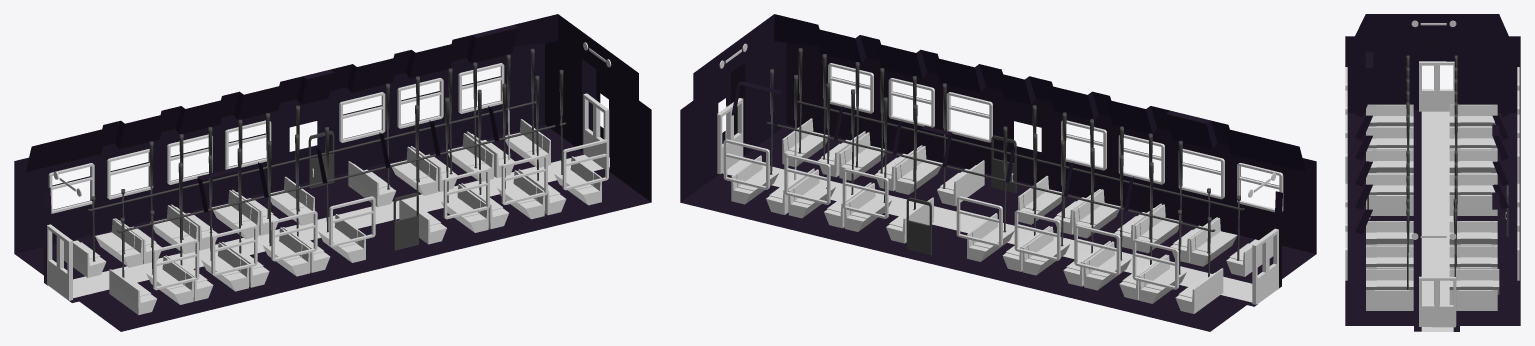
The model's file is bago prueba 0.1 .fbx.
The picture shows the model from 3 angles, left to right: view 1: azimuth 30°, elevation 25°; view 2: azimuth 150°, elevation 25°; view 3: azimuth 270°, elevation 25°; orthographic projection. The views are drawn at different scales.
Visible parts, largest first — view 1: BAGON.001, silla, ventana, VARILLA ARRIBA, varilla, barilla, PUERTA CENTRO, puerta bagon, puerta centra final; view 2: BAGON.001, silla, ventana, VARILLA ARRIBA, varilla, barilla, PUERTA CENTRO, puerta bagon, puerta centra final; view 3: BAGON.001, silla, VARILLA ARRIBA, puerta centra final, ventana, puerta bagon, luces, PUERTA CENTRO.
Boxes of the visible parts, x1=… form: BAGON.001: x1=14, y1=14, x2=651, y2=331; silla: x1=64, y1=119, x2=601, y2=315; ventana: x1=48, y1=63, x2=608, y2=290; VARILLA ARRIBA: x1=91, y1=48, x2=563, y2=230; varilla: x1=92, y1=103, x2=562, y2=277; barilla: x1=87, y1=101, x2=566, y2=232; PUERTA CENTRO: x1=308, y1=131, x2=418, y2=250; puerta bagon: x1=47, y1=224, x2=72, y2=300; puerta centra final: x1=583, y1=93, x2=609, y2=169; BAGON.001: x1=680, y1=14, x2=1316, y2=331; silla: x1=731, y1=118, x2=1273, y2=313; ventana: x1=723, y1=63, x2=1283, y2=289; VARILLA ARRIBA: x1=770, y1=48, x2=1240, y2=230; varilla: x1=770, y1=103, x2=1239, y2=277; barilla: x1=766, y1=101, x2=1244, y2=231; PUERTA CENTRO: x1=906, y1=135, x2=1016, y2=254; puerta bagon: x1=1252, y1=228, x2=1278, y2=304; puerta centra final: x1=717, y1=98, x2=743, y2=174; BAGON.001: x1=1345, y1=14, x2=1520, y2=331; silla: x1=1366, y1=104, x2=1499, y2=310; VARILLA ARRIBA: x1=1406, y1=55, x2=1457, y2=252; puerta centra final: x1=1419, y1=276, x2=1456, y2=327; ventana: x1=1345, y1=67, x2=1519, y2=280; puerta bagon: x1=1419, y1=61, x2=1454, y2=111; luces: x1=1411, y1=20, x2=1456, y2=239; PUERTA CENTRO: x1=1367, y1=185, x2=1508, y2=236.
Bounding box in the file's own units: 2722 × 566 × 909.
